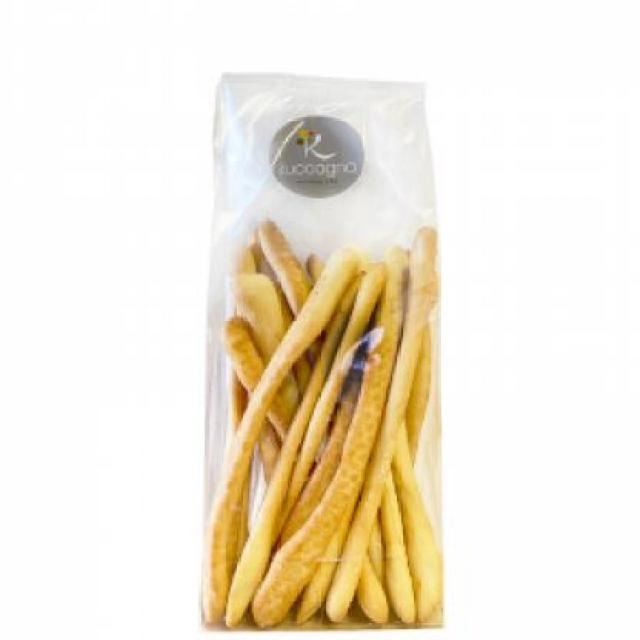Grissini: (230, 234, 433, 610)
